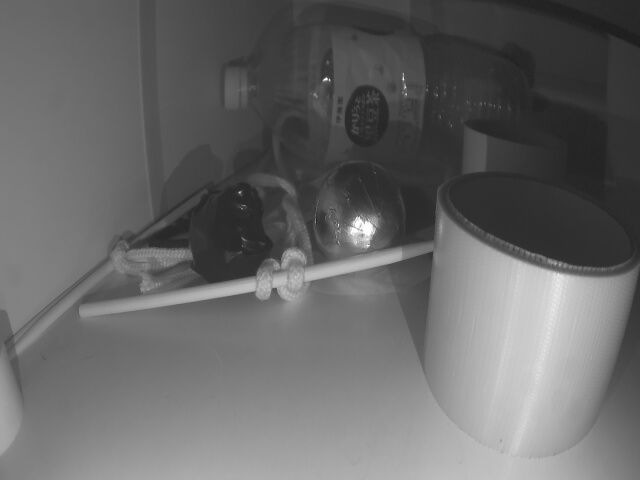Dead: (190, 183, 271, 294)
Live: (318, 159, 407, 287)
